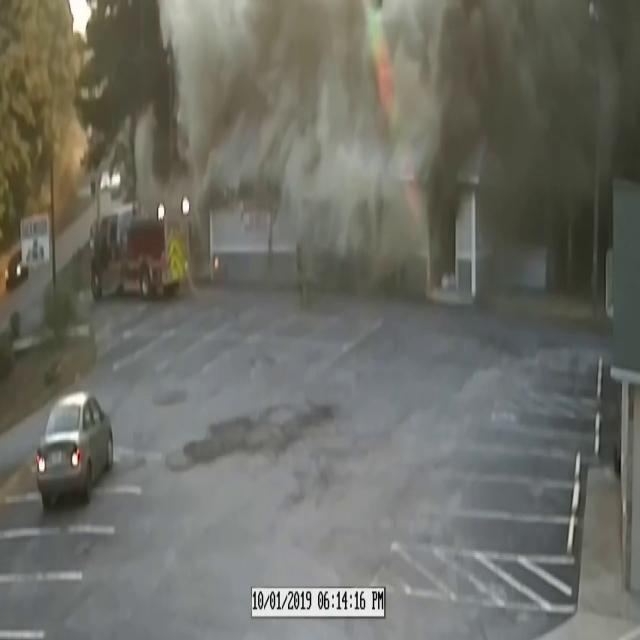Smoke: (147, 1, 637, 308), (405, 0, 640, 299)
